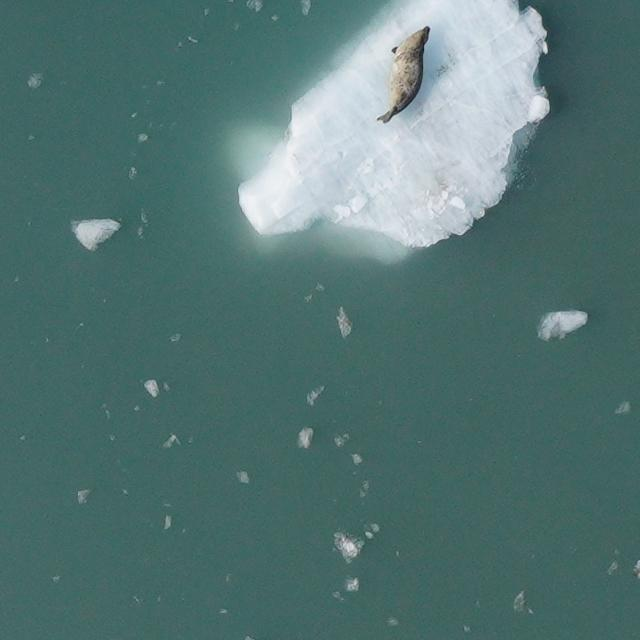seal: (372, 22, 435, 127)
